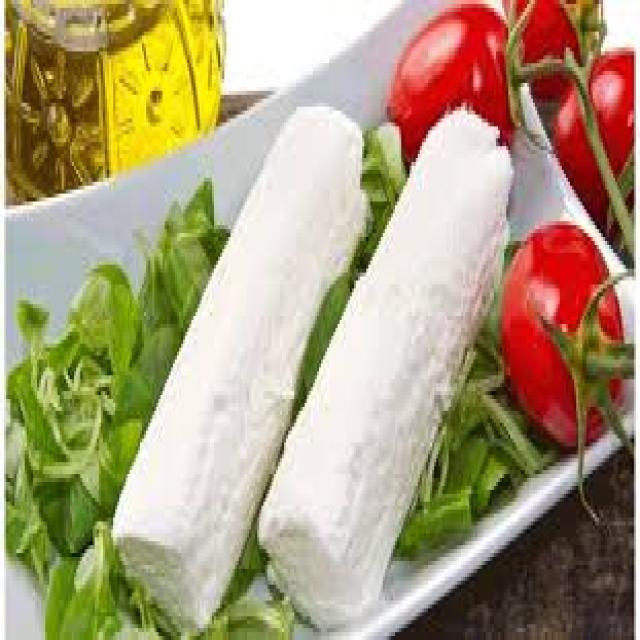Cheese: (119, 85, 343, 617), (279, 105, 508, 602)
